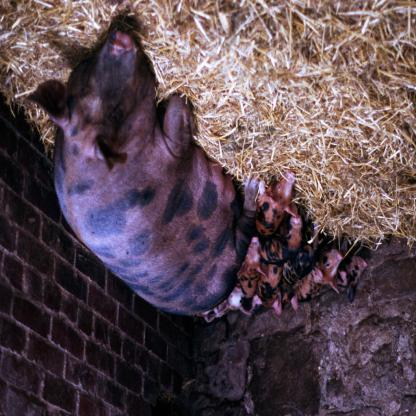boar: (23, 25, 369, 324)
